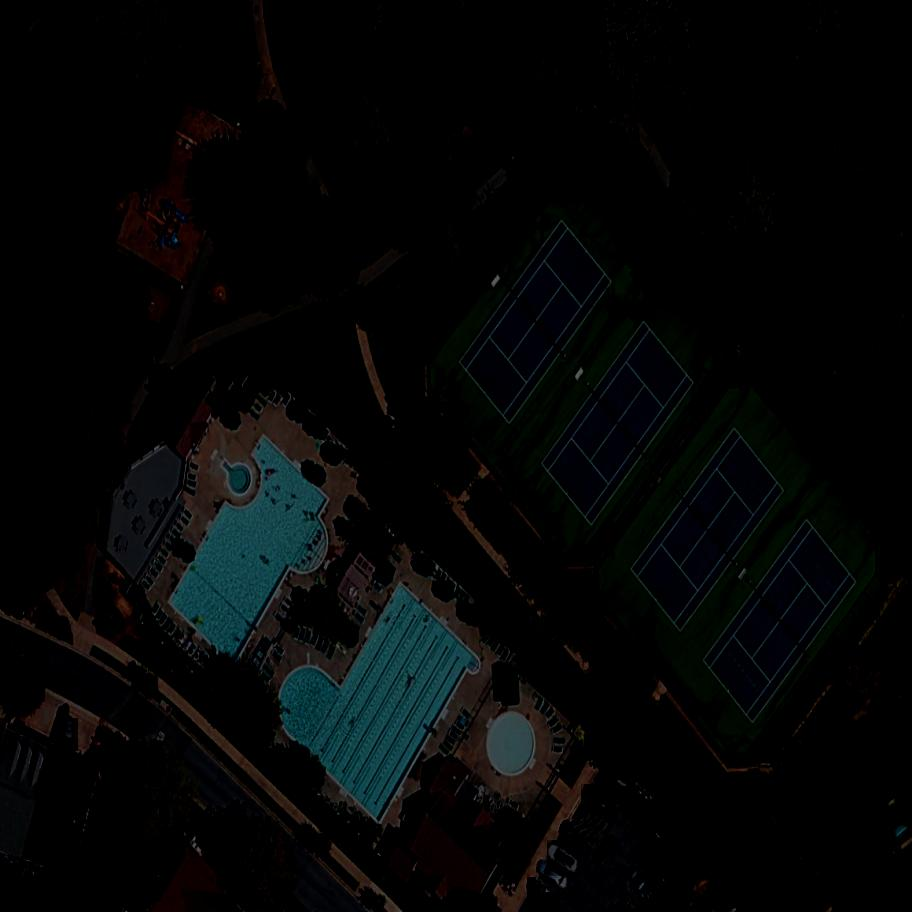small-vehicle: (544, 841, 587, 877), (625, 864, 658, 907), (533, 860, 574, 894), (590, 835, 625, 873), (578, 784, 615, 817), (525, 877, 559, 910), (557, 819, 587, 854), (63, 719, 80, 750)
